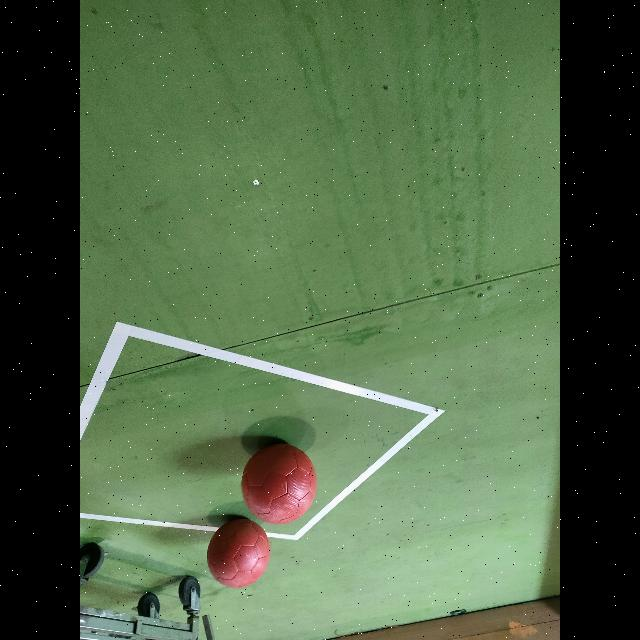R: (242, 444, 316, 524), (208, 518, 270, 588)
